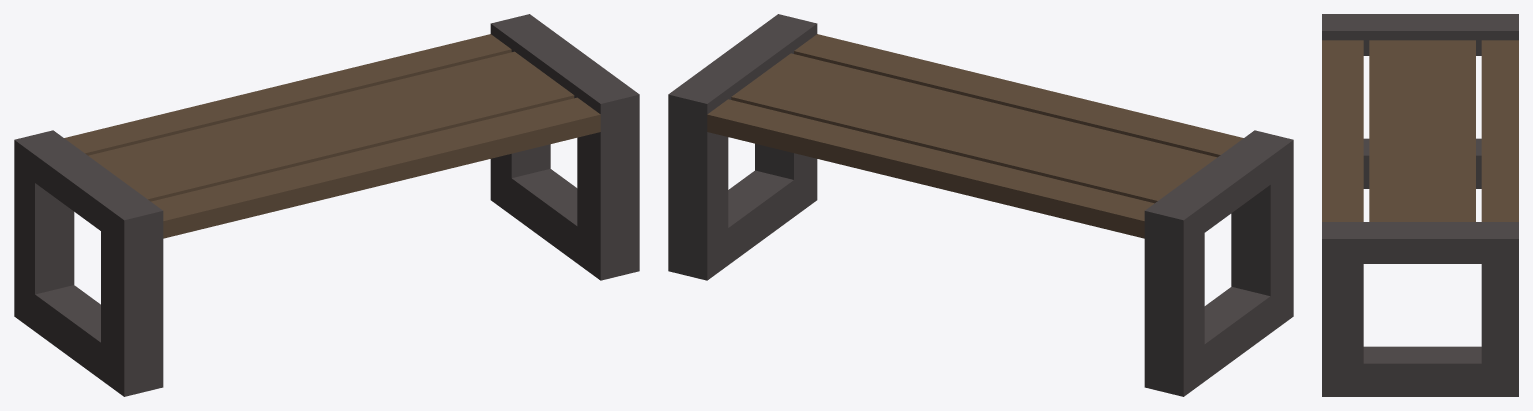
The model's file is Banca 1.fbx.
3 renders of one model, left to right at view 1: azimuth 30°, elevation 25°; view 2: azimuth 150°, elevation 25°; view 3: azimuth 270°, elevation 25°, orthographic. The views are drawn at different scales.
Parts seen in each view (by area): view 1: Banca_1; view 2: Banca_1; view 3: Banca_1.
Part boxes in pixels (x1,y1,x2,y2): Banca_1: (14, 14, 639, 396); Banca_1: (668, 14, 1293, 396); Banca_1: (1322, 14, 1518, 396).
Bounding box in the file's own units: 4.57 × 1.5 × 1.69.
